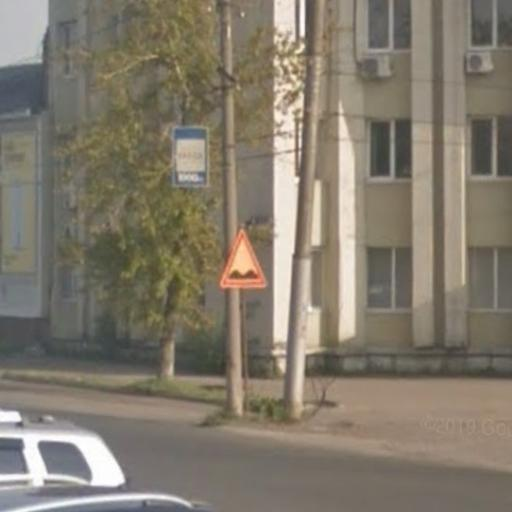traffic_sign: (217, 225, 273, 293)
